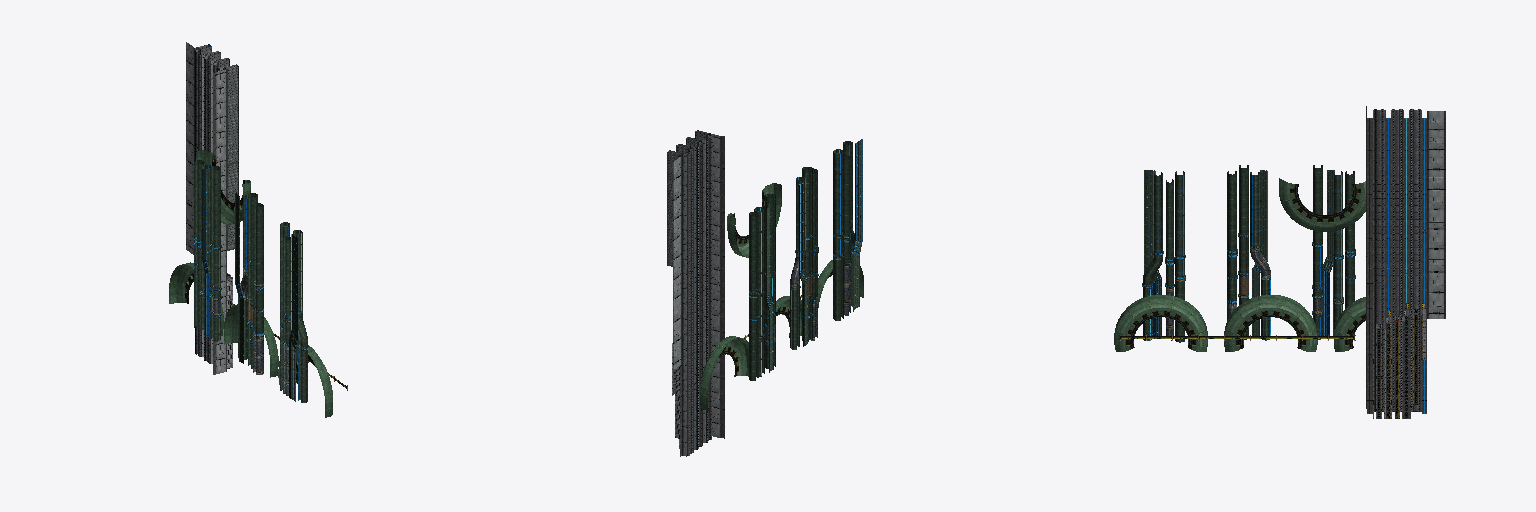
The picture shows the model from 3 angles: view 1: azimuth 30°, elevation 25°; view 2: azimuth 150°, elevation 25°; view 3: azimuth 270°, elevation 25°; orthographic projection.
Parts seen in each view (by area): view 1: polygon15, polygon11, polygon14, polygon16, polygon12, polygon20, polygon22, polygon23, polygon13, polygon21; view 2: polygon15, polygon11, polygon12, polygon13, polygon22, polygon23, polygon14, polygon16; view 3: polygon15, polygon11, polygon13, polygon12, polygon21, polygon20, polygon23, polygon3, polygon2, polygon22, polygon10, polygon4 (+2 smaller).
Boxes of the visible parts, <box> form: polygon15: <box>194,160,308,402</box>; polygon11: <box>186,42,238,374</box>; polygon14: <box>198,44,238,249</box>; polygon16: <box>200,269,288,395</box>; polygon12: <box>195,50,219,363</box>; polygon20: <box>224,304,278,377</box>; polygon22: <box>169,262,223,335</box>; polygon23: <box>196,149,250,224</box>; polygon13: <box>195,51,217,362</box>; polygon21: <box>278,345,332,417</box>; polygon15: <box>749,139,862,380</box>; polygon11: <box>667,130,724,456</box>; polygon12: <box>687,138,709,455</box>; polygon13: <box>688,137,711,455</box>; polygon22: <box>700,336,748,410</box>; polygon23: <box>727,183,781,257</box>; polygon14: <box>668,130,708,265</box>; polygon16: <box>759,251,850,342</box>; polygon15: <box>1142,165,1355,342</box>; polygon11: <box>1366,106,1445,413</box>; polygon13: <box>1374,109,1420,411</box>; polygon12: <box>1373,110,1421,411</box>; polygon21: <box>1114,295,1207,351</box>; polygon20: <box>1224,295,1317,351</box>; polygon23: <box>1279,178,1365,231</box>; polygon3: <box>1377,309,1422,418</box>; polygon2: <box>1377,315,1417,418</box>; polygon22: <box>1334,297,1365,351</box>; polygon10: <box>1369,118,1424,413</box>; polygon4: <box>1373,309,1422,418</box>.
Bounding box in the file's own units: 240 × 1279 × 1269.
Materials: 16 (16 with a texture image).